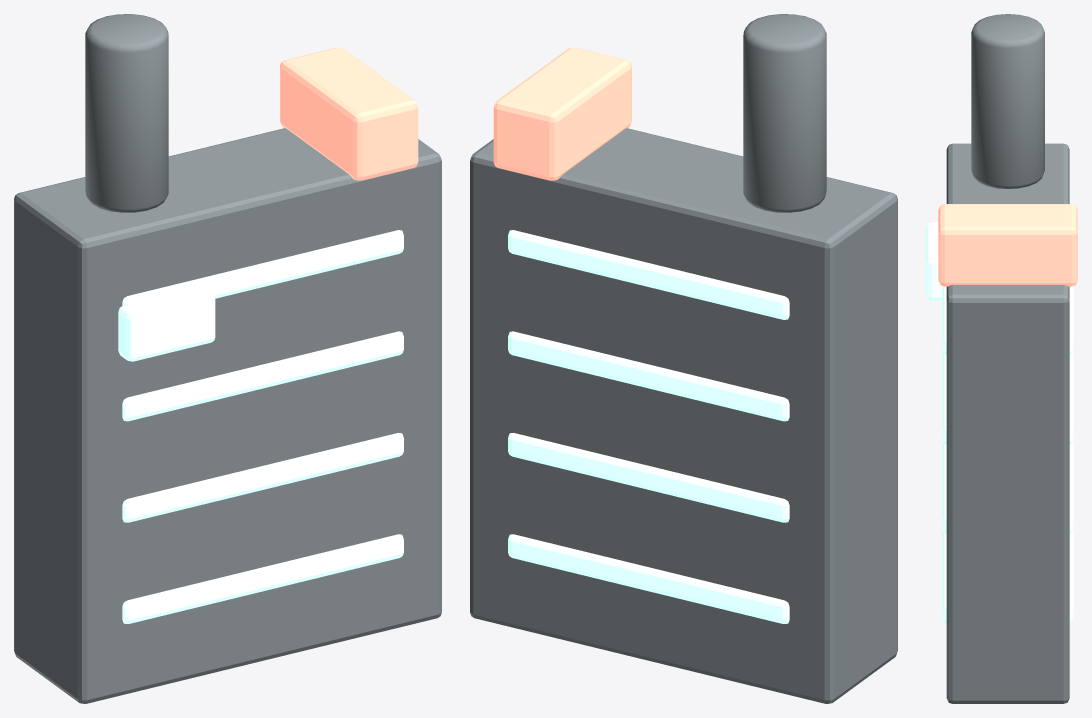
The model's file is фильтр_воздуха.glb.
3 views of the same model, side by side, from view 1: azimuth 30°, elevation 25°; view 2: azimuth 150°, elevation 25°; view 3: azimuth 270°, elevation 25° (orthographic). The views are drawn at different scales.
Parts seen in each view (by area): view 1: фильтр_воздуха; view 2: фильтр_воздуха; view 3: фильтр_воздуха.
Boxes of the visible parts, x1,y1,x2,y2 form: фильтр_воздуха: [14, 14, 441, 703]; фильтр_воздуха: [470, 14, 897, 703]; фильтр_воздуха: [926, 14, 1077, 703].
Bounding box in the file's own units: 0.9 × 1.5 × 0.37.
